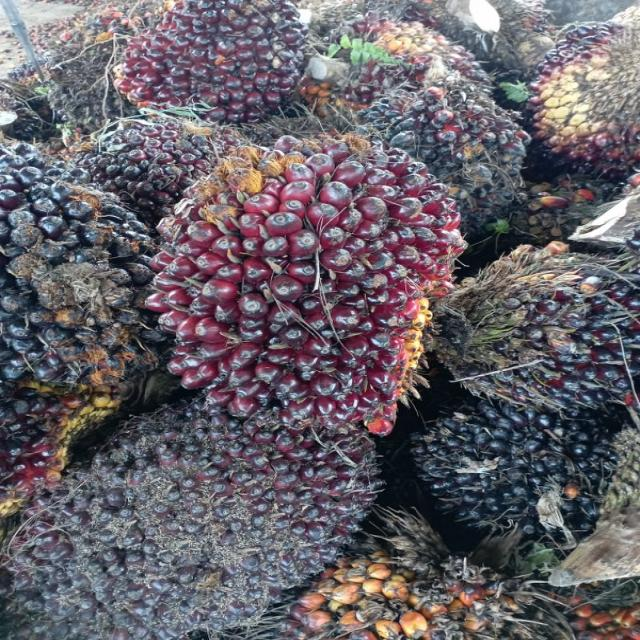fraksi 00: (2, 405, 378, 640), (0, 129, 166, 492), (417, 397, 640, 568), (455, 252, 640, 409), (56, 117, 228, 205)
fraksi 1: (168, 138, 452, 434), (368, 82, 536, 236), (113, 0, 315, 126)
